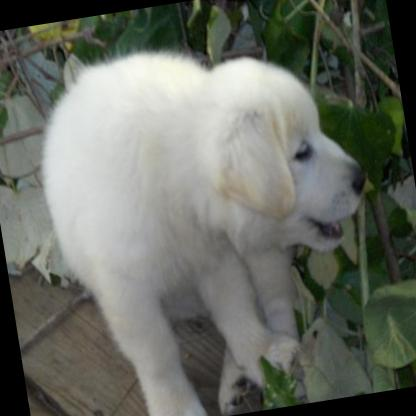Great_Pyrenees: (20, 16, 397, 416)
